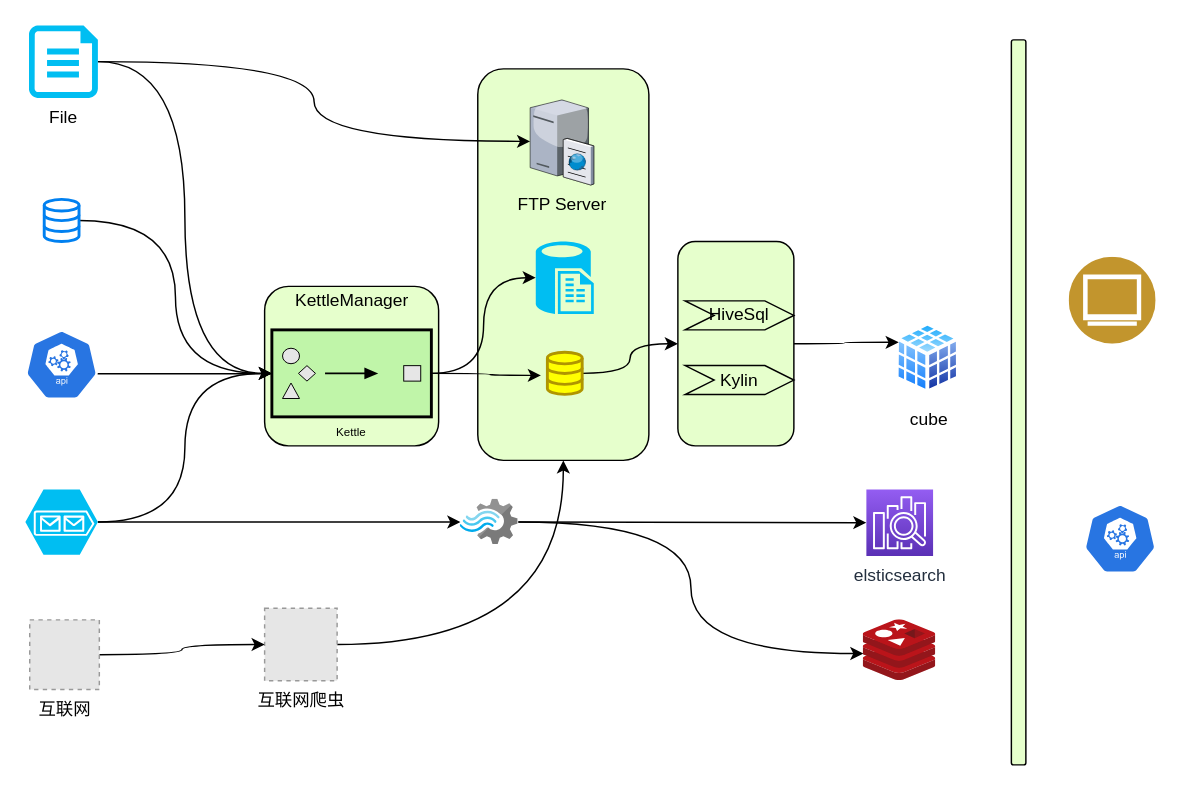
Some shapes in this 1182 by 790 pixel diagram are drawn without their labels. Grey dashed boxes stand in for pictures. Here are the shapes that lost their labels. From the top down, the centre of each, then its label:
point 61,219: DB
point 564,277: File DB
point 564,372: Hive
point 61,521: Kafka
point 489,521: 流分析
